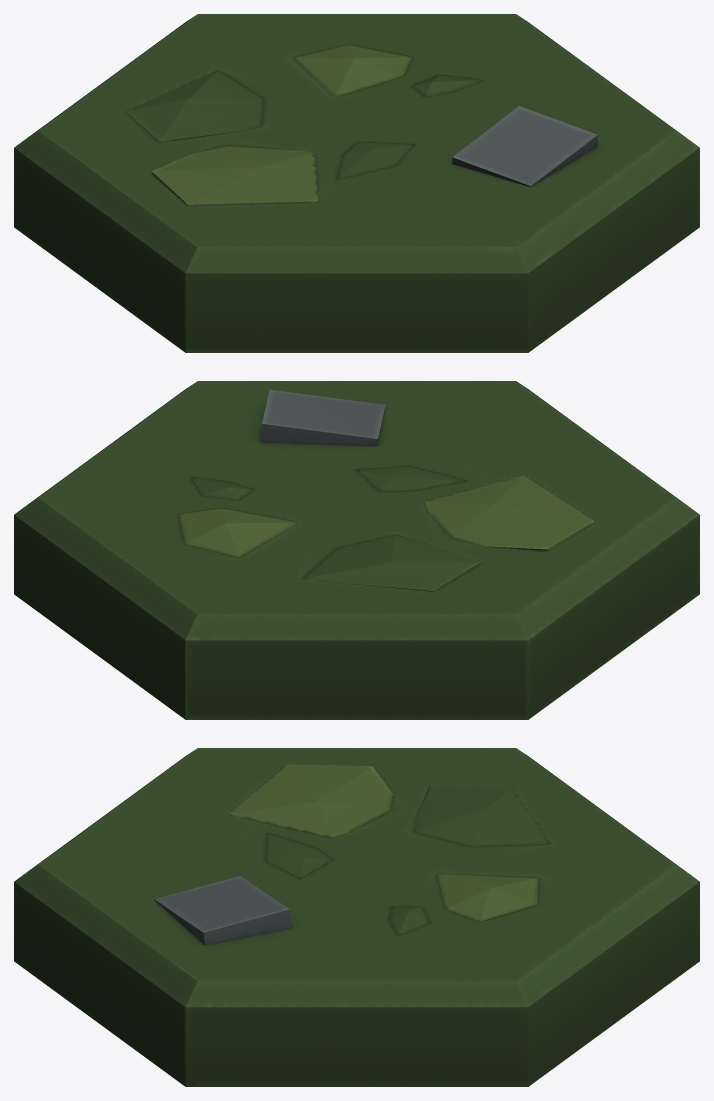
Rendered from tile_hex_moss_c.glb.
The picture shows the model from 3 angles, top to bottom: view 1: azimuth 30°, elevation 25°; view 2: azimuth 150°, elevation 25°; view 3: azimuth 270°, elevation 25°; orthographic projection.
Parts seen in each view (by area): view 1: tile_hex_moss_c; view 2: tile_hex_moss_c; view 3: tile_hex_moss_c.
Boxes of the visible parts, x1,y1,x2,y2 form: tile_hex_moss_c: (14, 14, 699, 352); tile_hex_moss_c: (14, 381, 699, 719); tile_hex_moss_c: (14, 748, 699, 1086).
Size of the model in its own units: 1.12 by 0.2375 by 1.29.
1 material, 1 textured.
